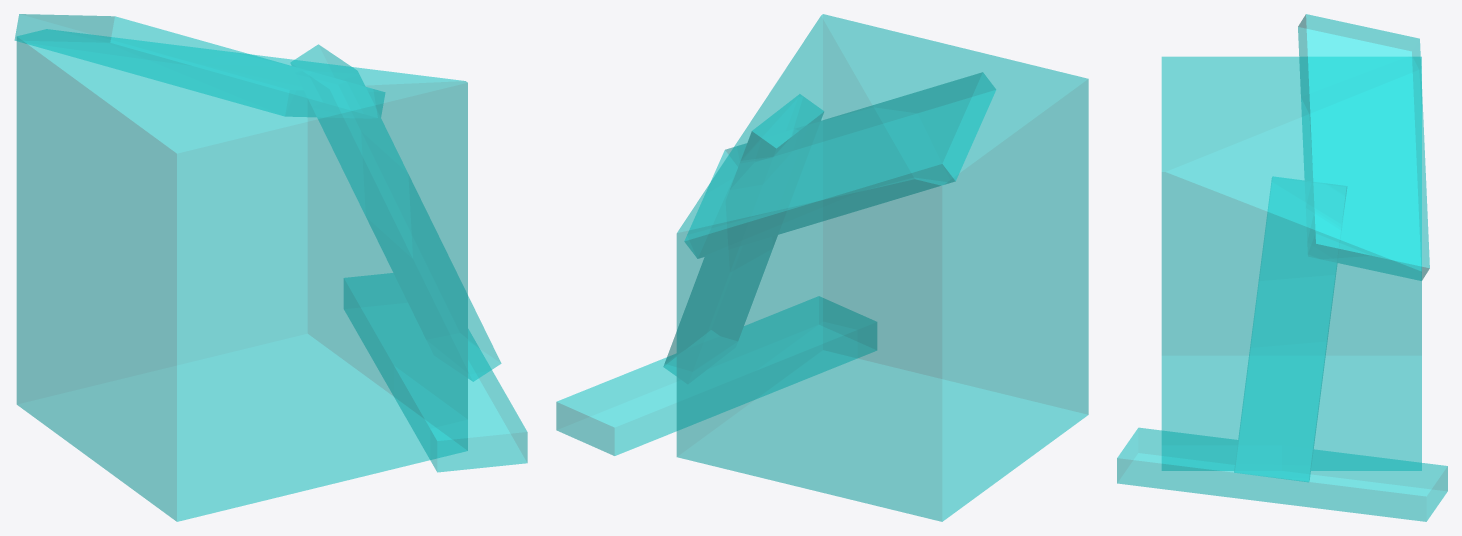
The model's file is SM_Prop_Scaffolding_04_Damaged_01_Collision_01.fbx.
3 renders of one model, left to right at view 1: azimuth 30°, elevation 25°; view 2: azimuth 150°, elevation 25°; view 3: azimuth 270°, elevation 25°, orthographic. The views are drawn at different scales.
Visible parts, largest first — view 1: SM_Prop_Scaffolding_04_Damaged_01_Collision_01; view 2: SM_Prop_Scaffolding_04_Damaged_01_Collision_01; view 3: SM_Prop_Scaffolding_04_Damaged_01_Collision_01.
Boxes of the visible parts, x1,y1,x2,y2 form: SM_Prop_Scaffolding_04_Damaged_01_Collision_01: (14,14,527,521); SM_Prop_Scaffolding_04_Damaged_01_Collision_01: (556,14,1088,521); SM_Prop_Scaffolding_04_Damaged_01_Collision_01: (1117,14,1447,521).
Size of the model in its own units: 412 by 399 by 339.
